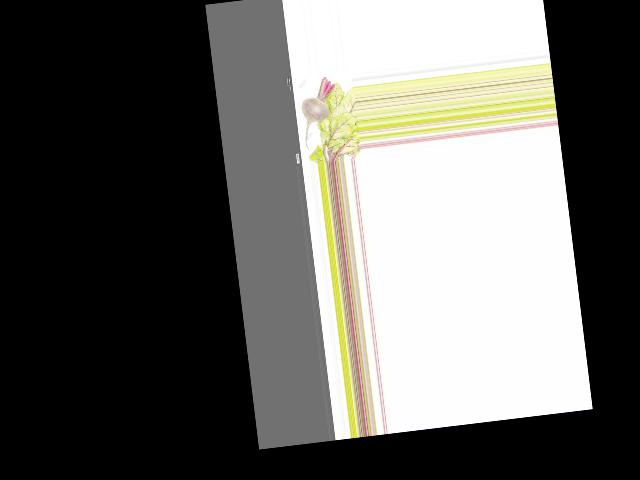beet: (297, 75, 341, 149)
